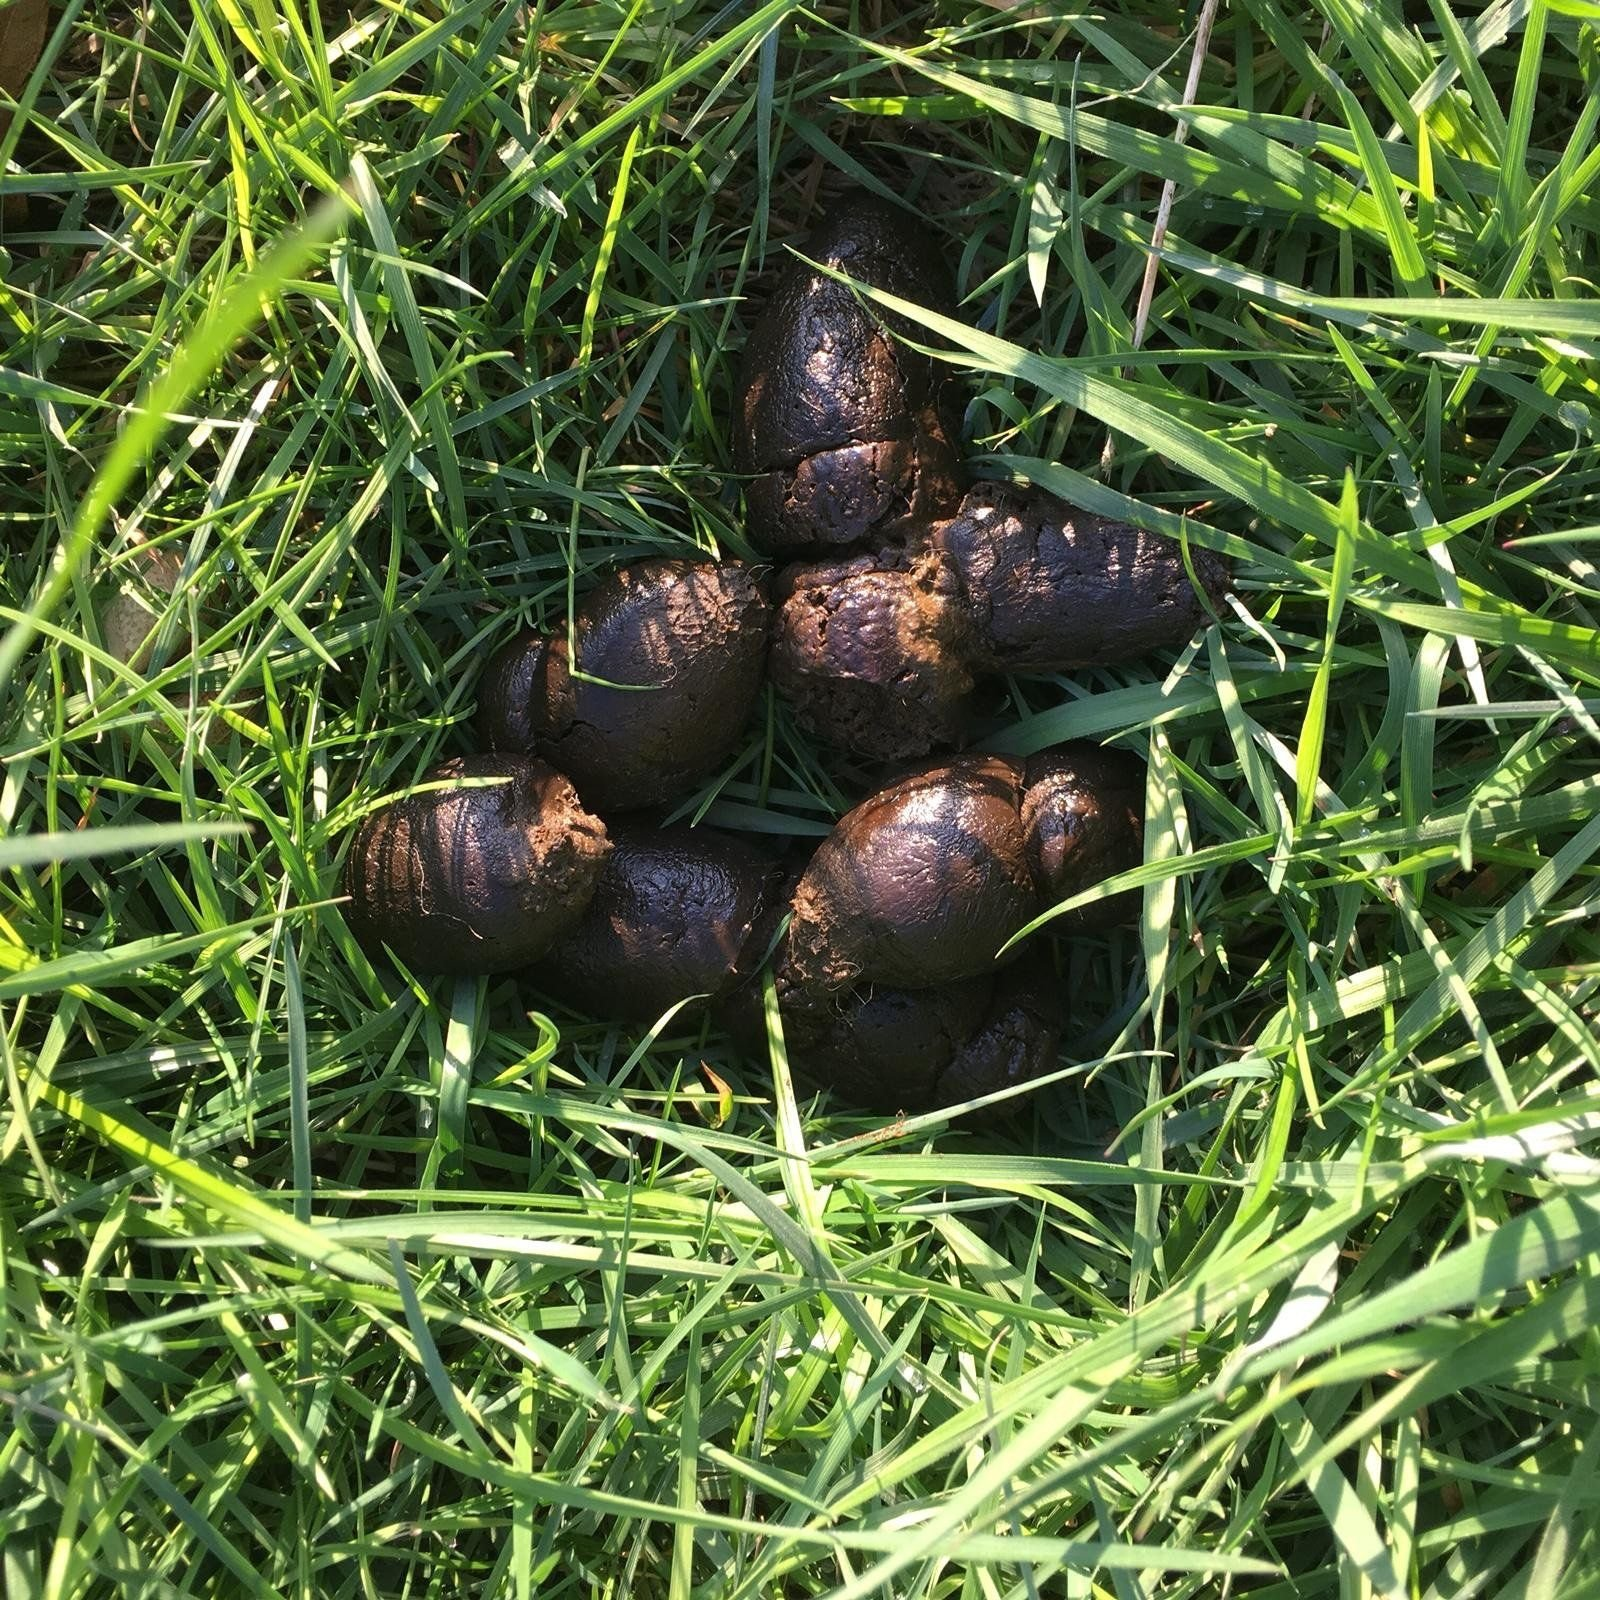Dog: (434, 215, 1156, 1043)
